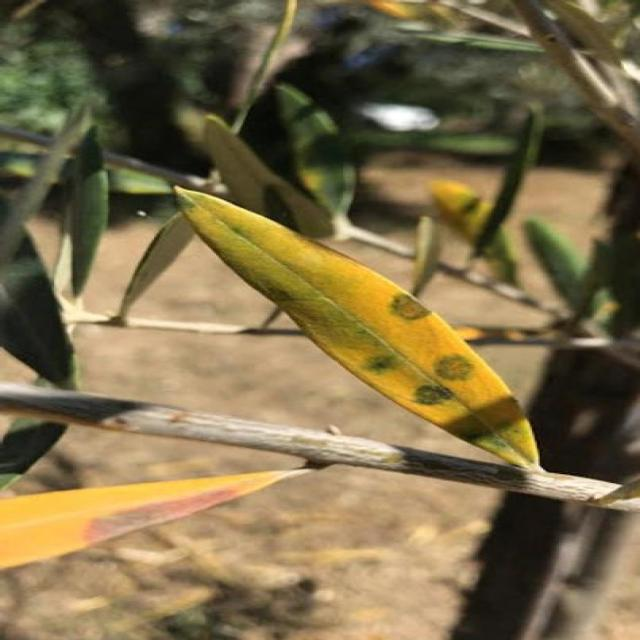Peacock Eye: (176, 189, 540, 469), (0, 461, 327, 569)
